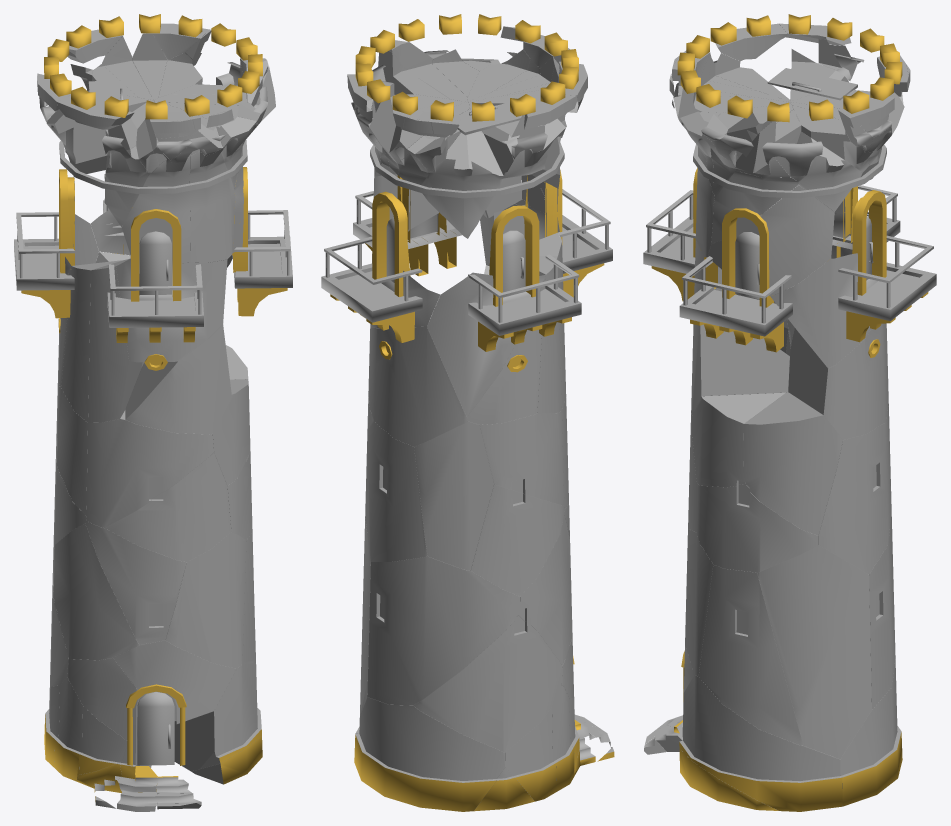
The picture shows the model from 3 angles, left to right: view 1: azimuth 30°, elevation 25°; view 2: azimuth 150°, elevation 25°; view 3: azimuth 270°, elevation 25°; orthographic projection. The views are drawn at different scales.
Parts seen in each view (by area): view 1: KH_TowerHigh.004_cell.363, KH_TowerHigh.004_cell.127, KH_TowerHigh.004_cell.183, KH_TowerHigh.004_cell.281, KH_TowerHigh.004_cell.369, KH_TowerHigh.004_cell.099, KH_TowerHigh.004_cell.041, KH_TowerHigh.004_cell.033, KH_TowerHigh.004_cell.304, KH_TowerHigh.004_cell.251, KH_TowerHigh.004_cell.255, KH_TowerHigh.004_cell.325 (+51 smaller); view 2: KH_TowerHigh.004_cell.176, KH_TowerHigh.004_cell.305, KH_TowerHigh.004_cell.112, KH_TowerHigh.004_cell.270, KH_TowerHigh.004_cell.066, KH_TowerHigh.004_cell.319, KH_TowerHigh.004_cell.347, KH_TowerHigh.004_cell.067, KH_TowerHigh.004_cell.214, KH_TowerHigh.004_cell.183, KH_TowerHigh.004_cell.047, KH_TowerHigh.004_cell.116 (+46 smaller); view 3: KH_TowerHigh.004_cell.254, KH_TowerHigh.004_cell.013, KH_TowerHigh.004_cell.361, KH_TowerHigh.004_cell.290, KH_TowerHigh.004_cell.319, KH_TowerHigh.004_cell.284, KH_TowerHigh.004_cell.045, KH_TowerHigh.004_cell.270, KH_TowerHigh.004_cell.101, KH_TowerHigh.004_cell.092, KH_TowerHigh.004_cell.119, KH_TowerHigh.004_cell.176 (+36 smaller).
Boxes of the visible parts, x1=… form: KH_TowerHigh.004_cell.363: x1=86, y1=419, x2=213, y2=527; KH_TowerHigh.004_cell.127: x1=166, y1=532, x2=246, y2=668; KH_TowerHigh.004_cell.183: x1=53, y1=524, x2=138, y2=660; KH_TowerHigh.004_cell.281: x1=105, y1=452, x2=231, y2=561; KH_TowerHigh.004_cell.369: x1=125, y1=324, x2=231, y2=434; KH_TowerHigh.004_cell.099: x1=85, y1=521, x2=186, y2=644; KH_TowerHigh.004_cell.041: x1=113, y1=640, x2=236, y2=723; KH_TowerHigh.004_cell.033: x1=116, y1=255, x2=227, y2=362; KH_TowerHigh.004_cell.304: x1=88, y1=266, x2=128, y2=422; KH_TowerHigh.004_cell.251: x1=189, y1=151, x2=235, y2=262; KH_TowerHigh.004_cell.255: x1=67, y1=658, x2=142, y2=741; KH_TowerHigh.004_cell.325: x1=61, y1=266, x2=90, y2=422; KH_TowerHigh.004_cell.176: x1=367, y1=556, x2=520, y2=705; KH_TowerHigh.004_cell.305: x1=413, y1=621, x2=562, y2=752; KH_TowerHigh.004_cell.112: x1=414, y1=421, x2=493, y2=570; KH_TowerHigh.004_cell.270: x1=368, y1=326, x2=467, y2=446; KH_TowerHigh.004_cell.066: x1=359, y1=697, x2=505, y2=780; KH_TowerHigh.004_cell.319: x1=365, y1=408, x2=427, y2=561; KH_TowerHigh.004_cell.347: x1=470, y1=484, x2=564, y2=596; KH_TowerHigh.004_cell.067: x1=427, y1=272, x2=545, y2=416; KH_TowerHigh.004_cell.214: x1=480, y1=411, x2=564, y2=505; KH_TowerHigh.004_cell.183: x1=520, y1=514, x2=572, y2=665; KH_TowerHigh.004_cell.047: x1=354, y1=734, x2=495, y2=811; KH_TowerHigh.004_cell.116: x1=467, y1=277, x2=545, y2=424; KH_TowerHigh.004_cell.254: x1=757, y1=545, x2=871, y2=759; KH_TowerHigh.004_cell.013: x1=698, y1=565, x2=803, y2=745; KH_TowerHigh.004_cell.361: x1=743, y1=415, x2=842, y2=535; KH_TowerHigh.004_cell.290: x1=682, y1=675, x2=840, y2=780; KH_TowerHigh.004_cell.319: x1=818, y1=416, x2=891, y2=574; KH_TowerHigh.004_cell.284: x1=696, y1=483, x2=818, y2=572; KH_TowerHigh.004_cell.045: x1=770, y1=253, x2=877, y2=368; KH_TowerHigh.004_cell.270: x1=823, y1=323, x2=888, y2=439; KH_TowerHigh.004_cell.101: x1=760, y1=185, x2=834, y2=296; KH_TowerHigh.004_cell.092: x1=693, y1=324, x2=789, y2=412; KH_TowerHigh.004_cell.119: x1=692, y1=396, x2=743, y2=487; KH_TowerHigh.004_cell.176: x1=869, y1=516, x2=895, y2=709.
Size of the model in its own units: 539 by 1431 by 539.
